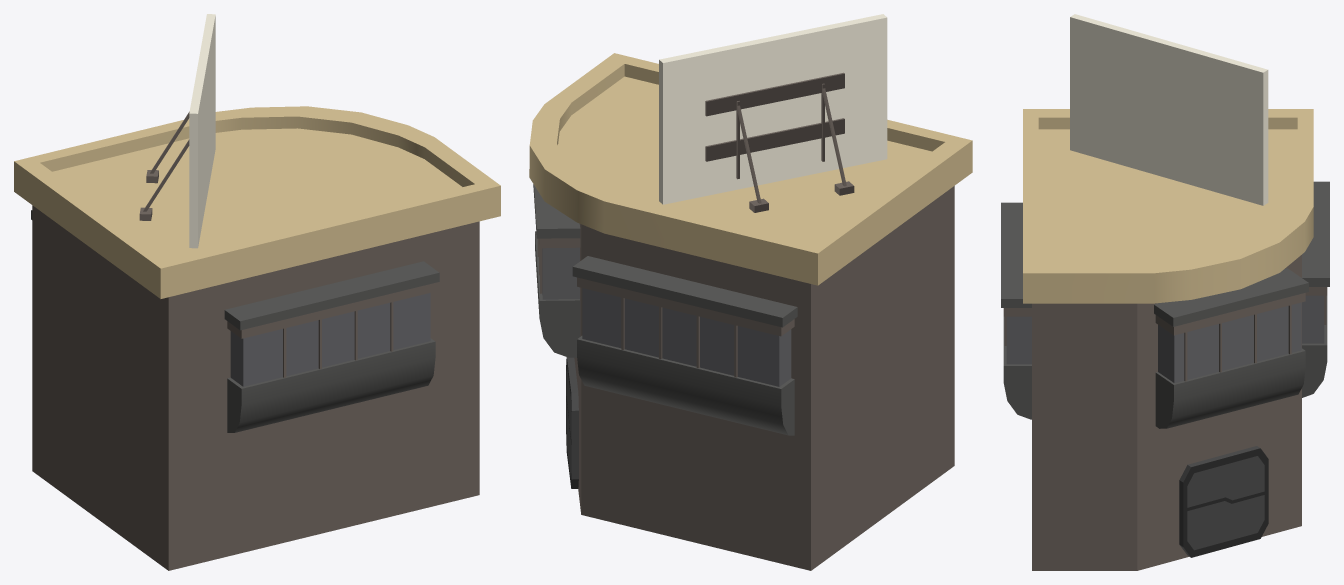
The model's file is West_House_10.fbx.
The picture shows the model from 3 angles, left to right: view 1: azimuth 30°, elevation 25°; view 2: azimuth 150°, elevation 25°; view 3: azimuth 270°, elevation 25°; orthographic projection. The views are drawn at different scales.
Visible parts, largest first — view 1: West_House_10; view 2: West_House_10; view 3: West_House_10.
Boxes of the visible parts, <box> form: West_House_10: <box>14,14,500,570</box>; West_House_10: <box>529,14,972,570</box>; West_House_10: <box>1001,14,1329,570</box>.
Bounding box in the file's own units: 30.78 × 37.08 × 25.89.
